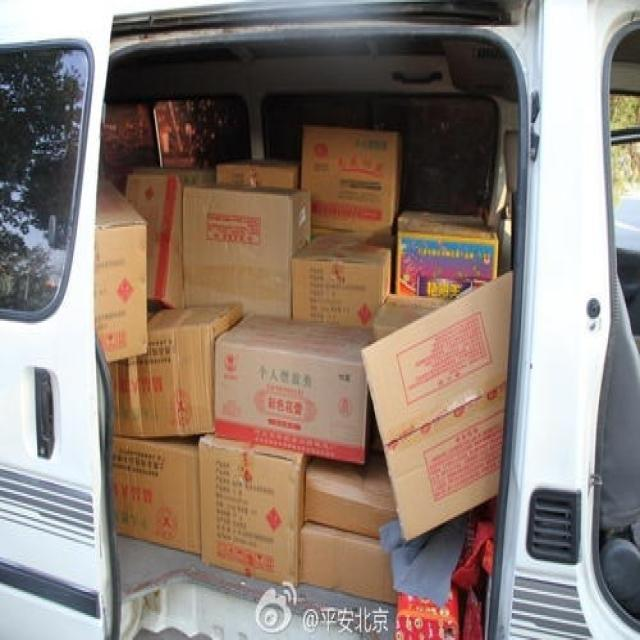box: (360, 269, 512, 544), (215, 309, 372, 465), (113, 302, 243, 440), (183, 183, 311, 315), (200, 432, 306, 590), (301, 125, 404, 234), (113, 436, 200, 555), (95, 175, 148, 361), (292, 234, 393, 327), (398, 219, 499, 300), (301, 521, 398, 605), (306, 450, 398, 536), (125, 173, 183, 308), (372, 294, 453, 342), (216, 161, 301, 188)
